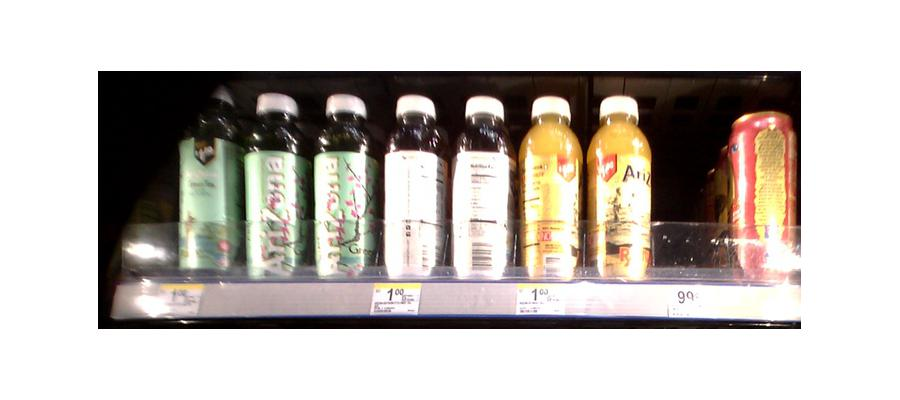bottle: (722, 112, 796, 281), (449, 94, 515, 283), (178, 77, 239, 280), (381, 92, 446, 279), (241, 90, 306, 277), (588, 93, 653, 277), (520, 95, 583, 282), (312, 93, 375, 280)
